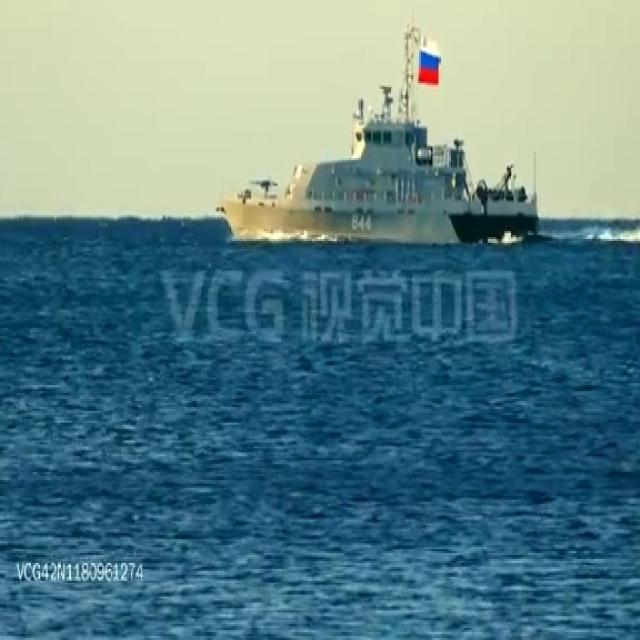houseboat: (218, 29, 538, 251)
